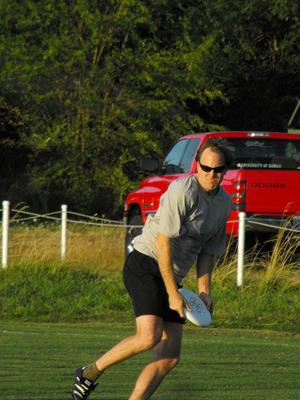person: (74, 139, 234, 400)
